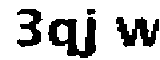3: (13, 3, 44, 54)
j: (78, 5, 99, 60)
q: (49, 15, 78, 60)
w: (110, 11, 160, 56)
